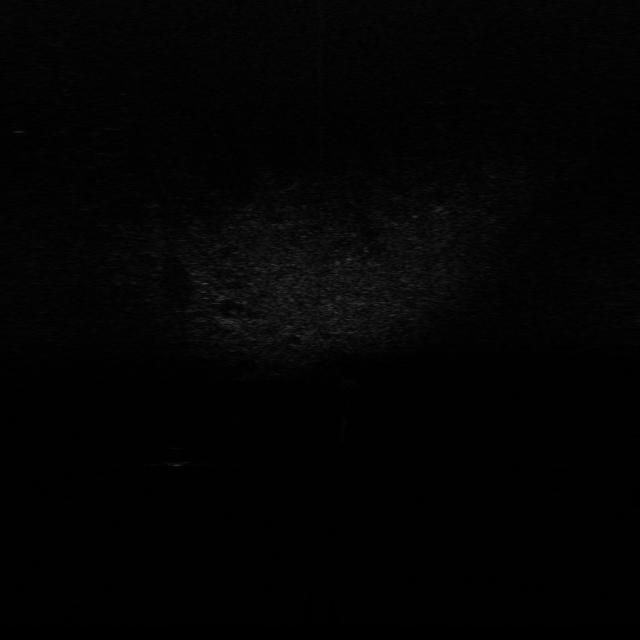ball: (160, 444, 194, 467)
cube: (336, 372, 366, 393)
